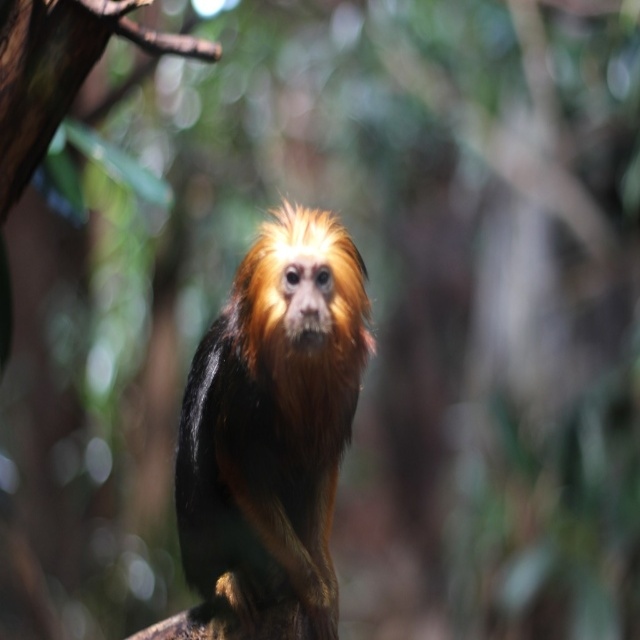Monkey: (176, 198, 374, 639)
